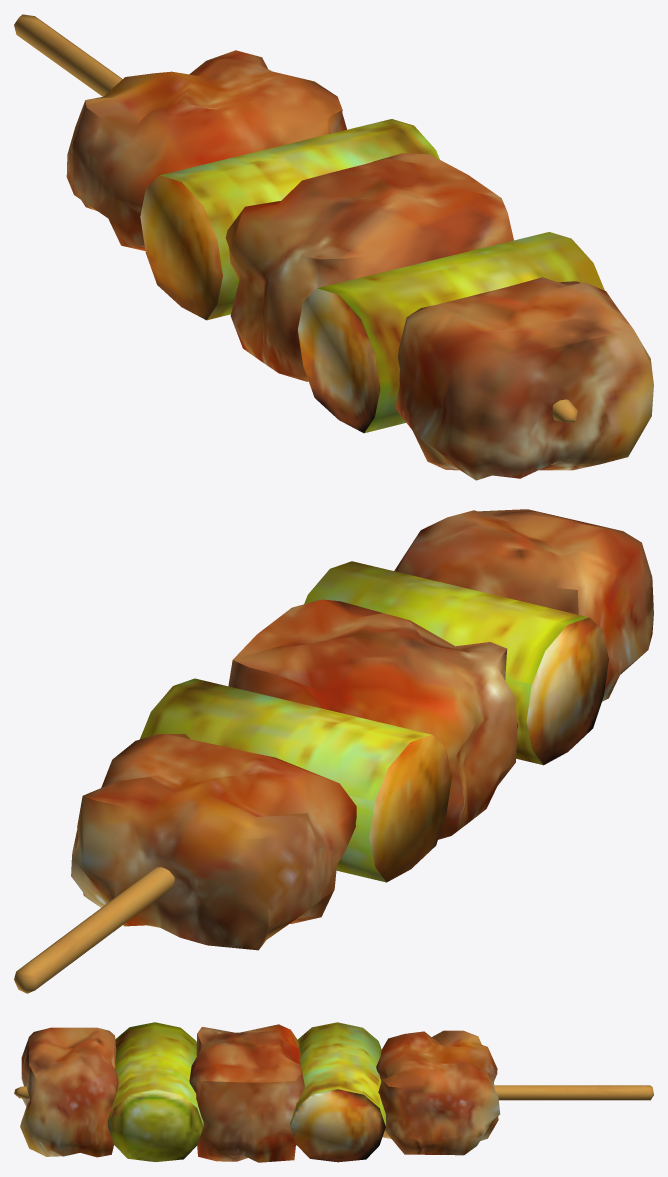
The model's file is BBQSkewers1.glb.
The picture shows the model from 3 angles, top to bottom: view 1: azimuth 30°, elevation 25°; view 2: azimuth 150°, elevation 25°; view 3: azimuth 270°, elevation 25°; orthographic projection. The views are drawn at different scales.
Parts seen in each view (by area): view 1: all_1; view 2: all_1; view 3: all_1.
Part boxes in pixels (left/top/right/bottom): all_1: left=14, top=14, right=653, bottom=480; all_1: left=14, top=509, right=653, bottom=993; all_1: left=14, top=1022, right=653, bottom=1162.
Size of the model in its own units: 0.7233 by 0.5008 by 2.9.
Materials: 1 (1 with a texture image).
